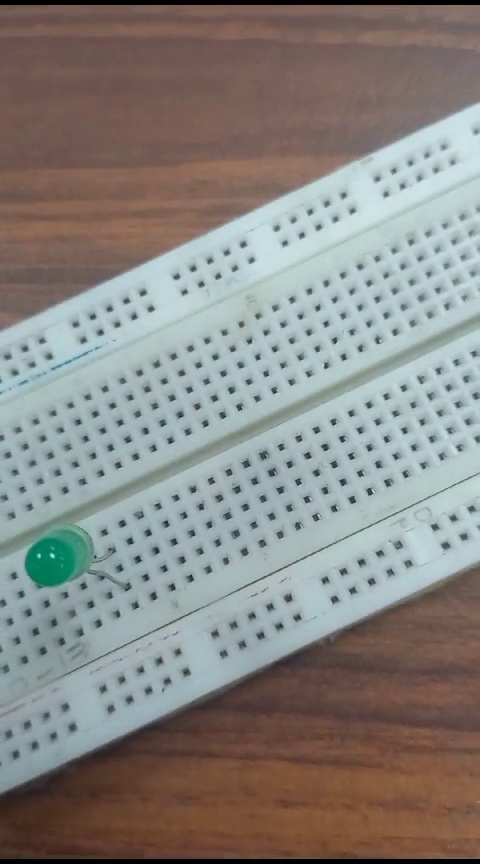LED: (19, 527, 124, 605)
